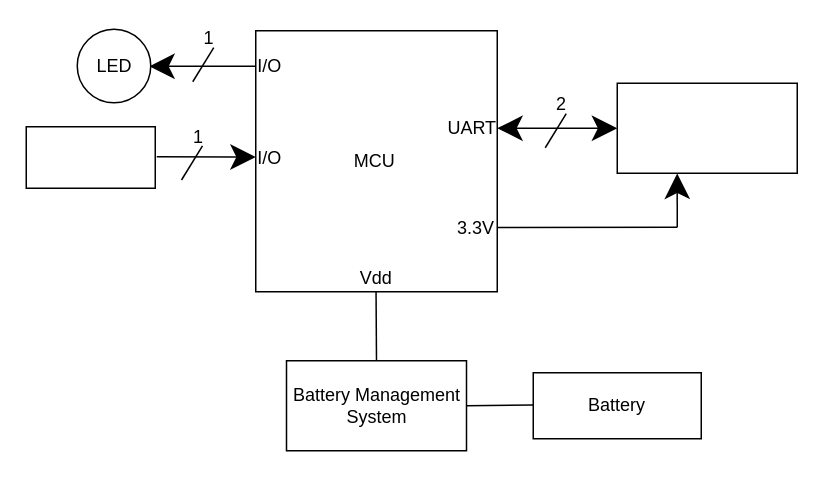
The diagram is 824 pixels wide and 477 high, and some of its shapes have lost their labels. The shapes that lost their labels are listed below. From the top down, each one's box as (x1, y1, x2, y2) in pixels, then its label:
(616, 82, 797, 173): Bluetooth module
(25, 125, 155, 188): Temperature Sensor
